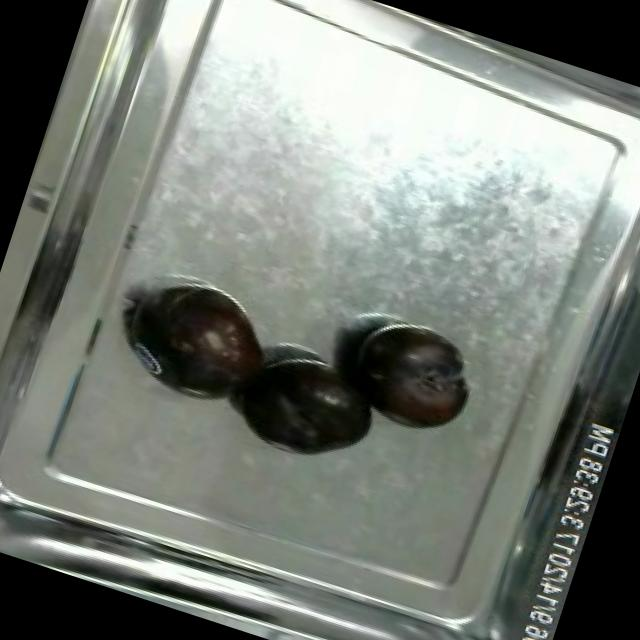Fruit: (225, 341, 390, 478), (132, 275, 282, 411), (334, 314, 484, 446)
